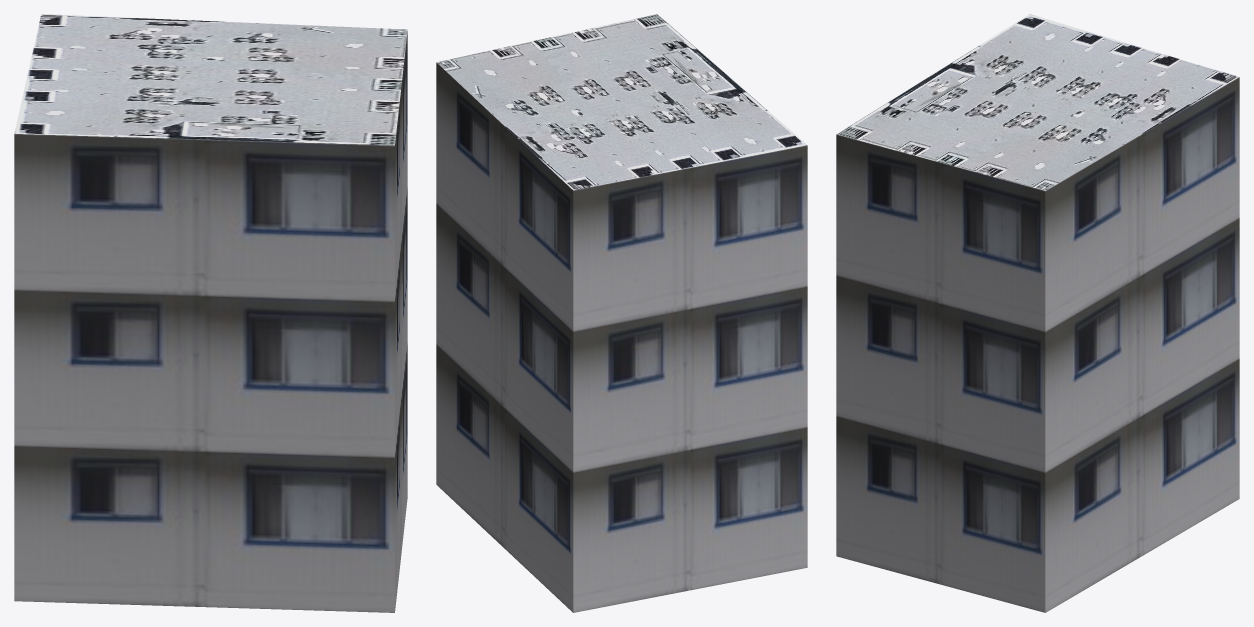
File: ResTex__3172.fbx
The picture shows the model from 3 angles, left to right: view 1: azimuth 30°, elevation 25°; view 2: azimuth 150°, elevation 25°; view 3: azimuth 270°, elevation 25°; orthographic projection. The views are drawn at different scales.
Parts seen in each view (by area): view 1: CityEngineMaterial_9_m, CityEngineMaterial_m; view 2: CityEngineMaterial_9_m, CityEngineMaterial_m; view 3: CityEngineMaterial_9_m, CityEngineMaterial_m.
Boxes of the visible parts, left/top/right/bottom form: CityEngineMaterial_9_m: left=14, top=32, right=407, bottom=612; CityEngineMaterial_m: left=14, top=14, right=407, bottom=145; CityEngineMaterial_9_m: left=436, top=62, right=807, bottom=612; CityEngineMaterial_m: left=437, top=14, right=806, bottom=190; CityEngineMaterial_9_m: left=836, top=77, right=1239, bottom=612; CityEngineMaterial_m: left=837, top=14, right=1238, bottom=190.
Size of the model in its own units: 8.1 by 9 by 7.79.
Materials: 2 (2 with a texture image).
